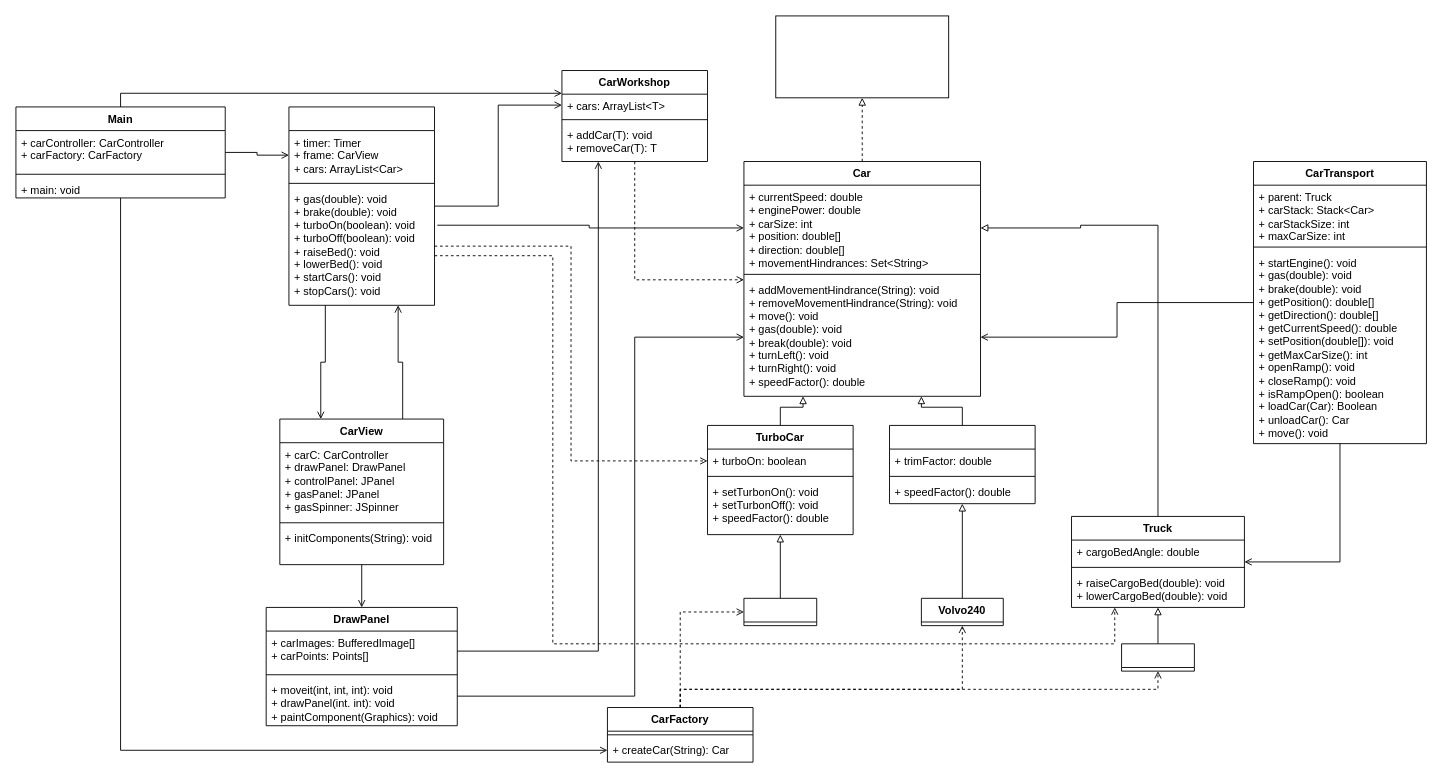
Some shapes in this 1442 by 781 pixel diagram are drawn without their labels. The shapes that lost their labels are listed below. From the top down, each one's box as (x1, y1, x2, y2) in pixels, then its label:
(775, 15, 949, 98): <<Interface>> Movable + move(): void + turnLeft(): void + turnRight(): void
(288, 106, 435, 305): CarController
(889, 425, 1035, 504): TrimCar
(743, 597, 817, 626): Saab95
(1121, 643, 1194, 671): Scania
